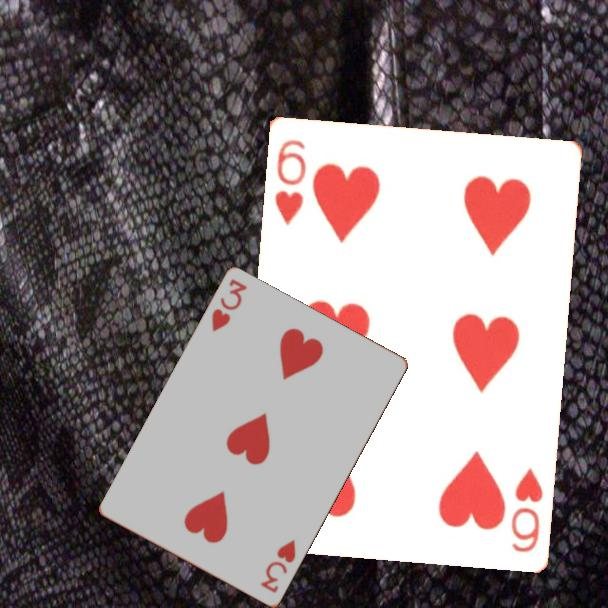h03: (208, 276, 251, 335), (257, 536, 299, 596)
h06: (271, 135, 309, 228), (507, 463, 545, 555)
